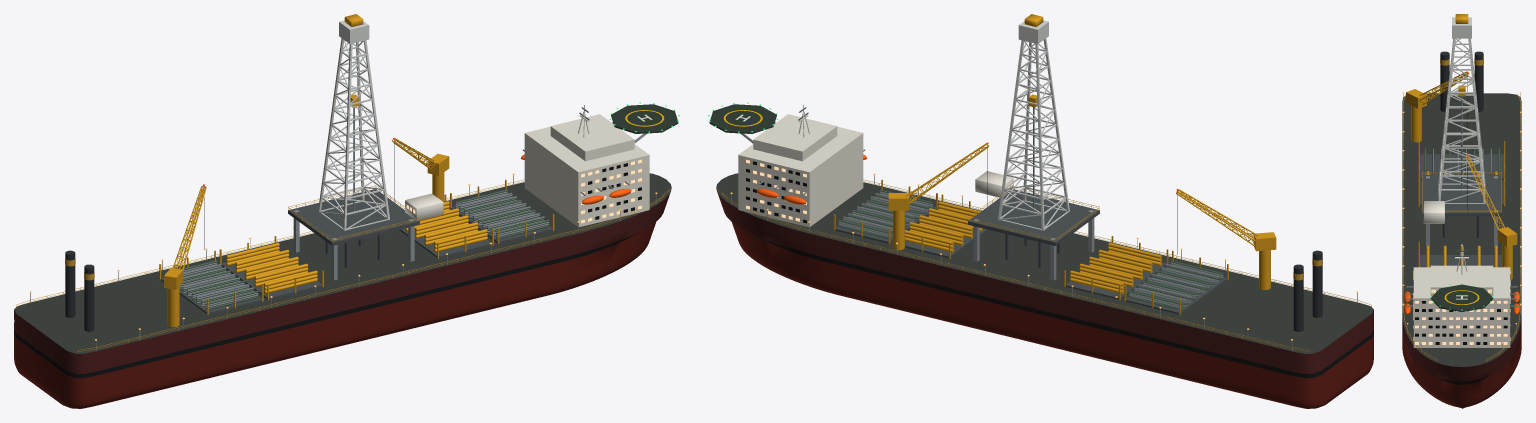
Rendered from navio_sonda.glb.
3 renders of one model, left to right at view 1: azimuth 30°, elevation 25°; view 2: azimuth 150°, elevation 25°; view 3: azimuth 270°, elevation 25°, orthographic. The views are drawn at different scales.
Parts seen in each view (by area): view 1: sonda_casco, sonda_topside_superestrutura, sonda_topside_amarelo, sonda_topside_branco, sonda_topside_estrutura_escura, sonda_topside_tubo, sonda_topside_tubo_verde, sonda_topside_heliponto, sonda_topside_chamine, sonda_topside_estrutura; view 2: sonda_casco, sonda_topside_amarelo, sonda_topside_superestrutura, sonda_topside_branco, sonda_topside_estrutura_escura, sonda_topside_tubo, sonda_topside_tubo_verde, sonda_topside_heliponto, sonda_topside_chamine, sonda_topside_estrutura; view 3: sonda_casco, sonda_topside_superestrutura, sonda_topside_estrutura_escura, sonda_topside_amarelo, sonda_topside_branco, sonda_topside_heliponto, sonda_topside_chamine, sonda_topside_janela, sonda_topside_estrutura, sonda_topside_janela_apagada, sonda_topside_tubo, sonda_topside_laranja (+1 smaller).
Part boxes in pixels (x1,y1,x2,y2): sonda_casco: (14, 173, 671, 408); sonda_topside_superestrutura: (405, 111, 649, 227); sonda_topside_amarelo: (16, 14, 669, 353); sonda_topside_branco: (318, 20, 389, 230); sonda_topside_estrutura_escura: (160, 189, 552, 314); sonda_topside_tubo: (179, 107, 549, 308); sonda_topside_tubo_verde: (164, 189, 549, 310); sonda_topside_heliponto: (611, 104, 678, 133); sonda_topside_chamine: (65, 250, 94, 331); sonda_topside_estrutura: (30, 122, 656, 350); sonda_casco: (716, 173, 1373, 408); sonda_topside_amarelo: (718, 14, 1371, 353); sonda_topside_superestrutura: (738, 111, 1013, 227); sonda_topside_branco: (998, 20, 1069, 230); sonda_topside_estrutura_escura: (835, 189, 1227, 314); sonda_topside_tubo: (838, 107, 1223, 308); sonda_topside_tubo_verde: (838, 189, 1223, 310); sonda_topside_heliponto: (709, 104, 776, 133); sonda_topside_chamine: (1293, 250, 1322, 331); sonda_topside_estrutura: (731, 122, 1357, 350); sonda_casco: (1402, 93, 1521, 408); sonda_topside_superestrutura: (1413, 201, 1510, 347); sonda_topside_estrutura_escura: (1420, 154, 1503, 267); sonda_topside_amarelo: (1403, 14, 1520, 361); sonda_topside_branco: (1438, 17, 1485, 203); sonda_topside_heliponto: (1430, 284, 1493, 311); sonda_topside_chamine: (1440, 51, 1483, 111); sonda_topside_janela: (1413, 271, 1510, 344); sonda_topside_estrutura: (1403, 94, 1520, 352); sonda_topside_janela_apagada: (1413, 274, 1510, 344); sonda_topside_tubo: (1424, 96, 1499, 194); sonda_topside_laranja: (1404, 291, 1519, 314).
Bounding box in the file's own units: 231 × 103 × 42.01.
